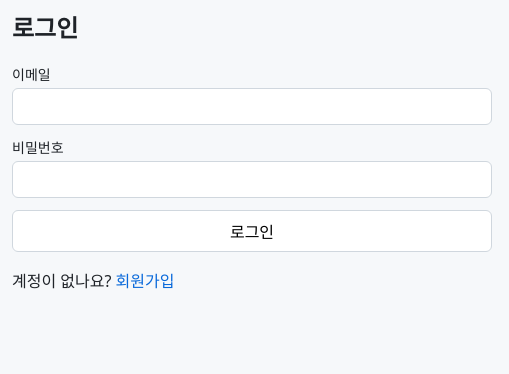
Test: LoginPage › shows a friendly message for wrong credentials
Step 1. Type "user@example.com" into the field labelled "이메일" → (252, 106), box left=12, top=88, right=492, bottom=125
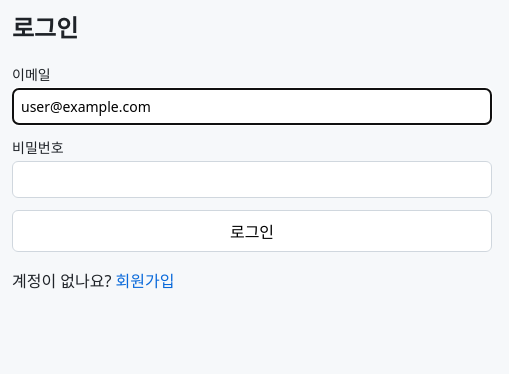
Step 2. Type "password123" into the password field labelled "비밀번호" → (252, 179), box left=12, top=161, right=492, bottom=198
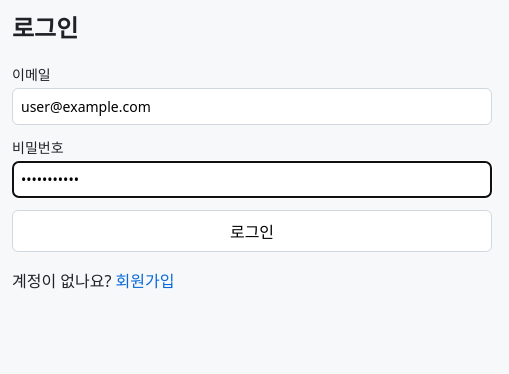
Step 3. Click the button "로그인" → (252, 231), box left=12, top=210, right=492, bottom=252
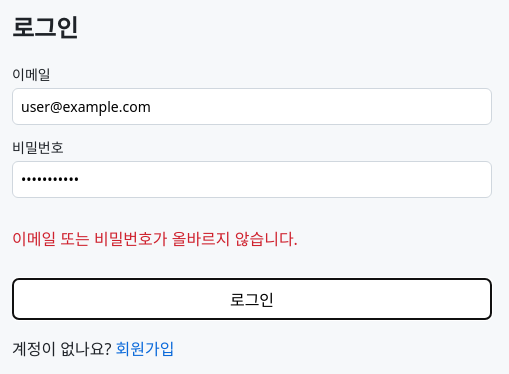
expect the message reads "이메일 또는 비밀번호가 올바르지 않습니다.": met, box left=12, top=228, right=298, bottom=250
